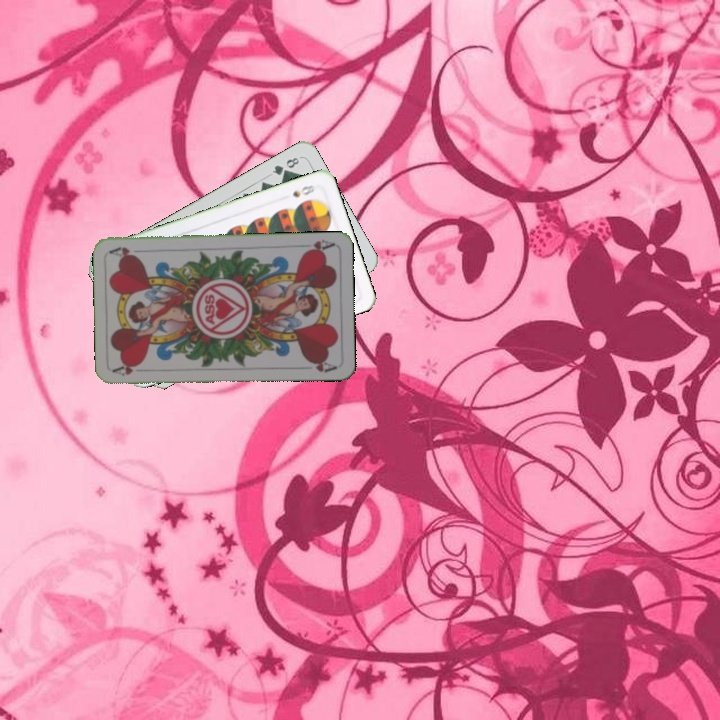G8: (268, 153, 302, 178)
HA: (296, 235, 336, 255), (110, 360, 150, 378)
S8: (288, 180, 319, 200)
